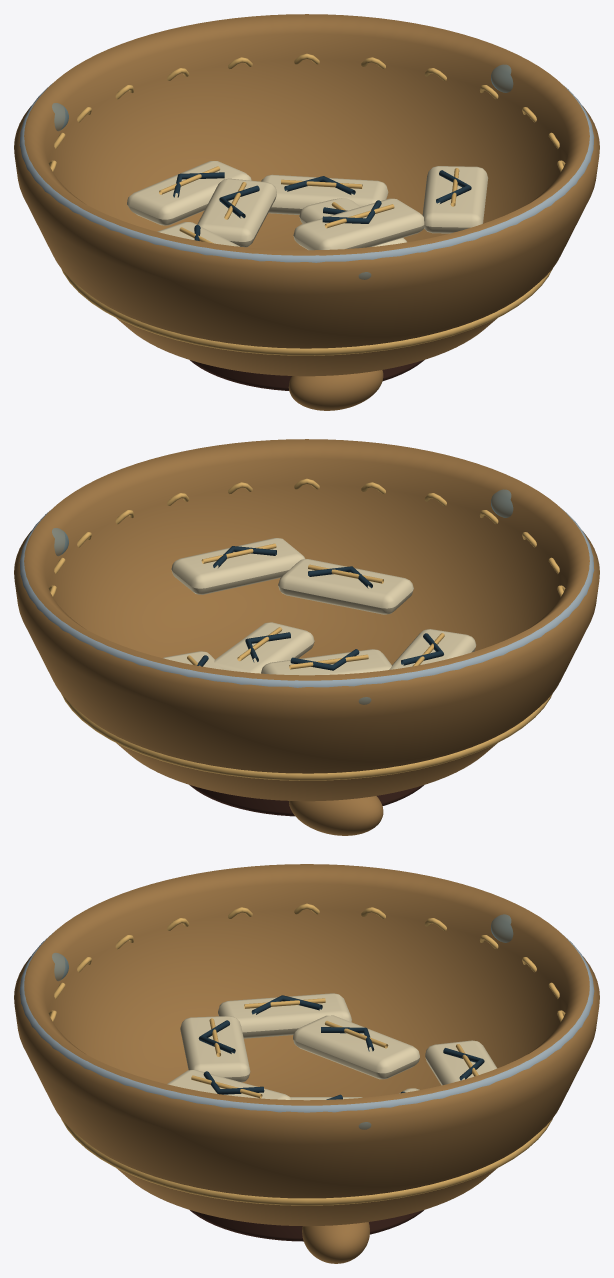
The model's file is fortune-lots-v1.glb.
3 renders of one model, top to bottom at view 1: azimuth 30°, elevation 25°; view 2: azimuth 150°, elevation 25°; view 3: azimuth 270°, elevation 25°, orthographic.
Visible parts, largest first — view 1: ChasedBowl, SilverLip, IvoryLot2, LowerChase, IvoryLot5, IvoryLot6, IvoryLot1, ClawFoot2, IvoryLot3, TurnedFoot, IvoryLot0, IvoryLot4; view 2: ChasedBowl, SilverLip, IvoryLot2, IvoryLot5, LowerChase, ClawFoot1, IvoryLot0, IvoryLot1, IvoryLot4, TurnedFoot; view 3: ChasedBowl, SilverLip, IvoryLot1, LowerChase, IvoryLot4, IvoryLot2, ClawFoot0, TurnedFoot, IvoryLot6, IvoryLot5.
Part boxes in pixels (x1,y1,x2,y2): ChasedBowl: (14, 14, 599, 376); SilverLip: (19, 83, 594, 262); IvoryLot2: (293, 198, 424, 250); LowerChase: (61, 269, 552, 355); IvoryLot5: (422, 166, 488, 233); IvoryLot6: (127, 161, 251, 225); IvoryLot1: (197, 178, 276, 247); ClawFoot2: (288, 370, 383, 410); IvoryLot3: (261, 174, 388, 214); TurnedFoot: (190, 360, 424, 390); IvoryLot0: (299, 198, 406, 246); IvoryLot4: (157, 222, 239, 246); ChasedBowl: (14, 439, 599, 801); SilverLip: (19, 508, 594, 687); IvoryLot2: (278, 559, 413, 614); IvoryLot5: (171, 538, 305, 594); LowerChase: (61, 694, 552, 780); ClawFoot1: (289, 796, 383, 835); IvoryLot0: (214, 622, 314, 673); IvoryLot1: (261, 649, 391, 675); IvoryLot4: (389, 629, 476, 669); TurnedFoot: (189, 785, 423, 816); ChasedBowl: (14, 864, 599, 1226); SilverLip: (19, 933, 594, 1112); IvoryLot1: (293, 1015, 419, 1079); LowerChase: (61, 1118, 552, 1205); IvoryLot4: (218, 993, 351, 1038); IvoryLot2: (180, 1016, 250, 1082); ClawFoot0: (302, 1222, 369, 1263); TurnedFoot: (190, 1210, 423, 1241); IvoryLot6: (425, 1040, 497, 1085); IvoryLot5: (167, 1069, 291, 1099).
Bounding box in the file's own units: 1.72 × 0.69 × 1.72.
